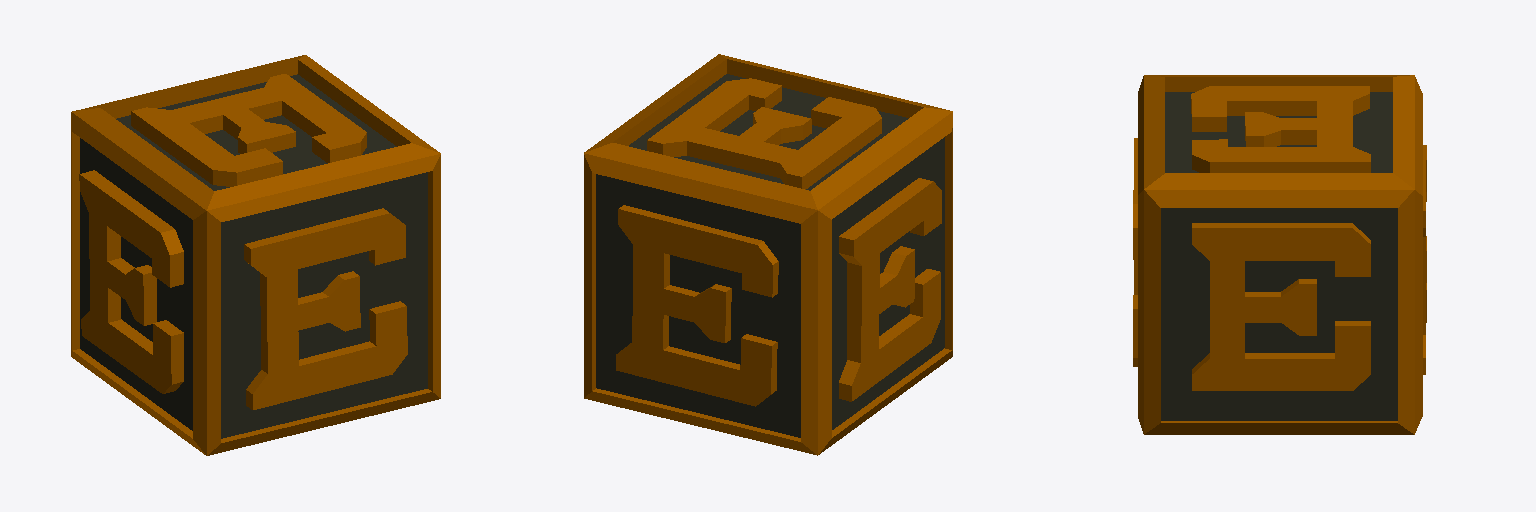
Rendered from LetterblockE.obj.
The picture shows the model from 3 angles: view 1: azimuth 30°, elevation 25°; view 2: azimuth 150°, elevation 25°; view 3: azimuth 270°, elevation 25°; orthographic projection.
Visible parts, largest first — view 1: pCube1_Untitled.007, pPlane3_Untitled.013, pPlane4_Untitled.010, pPlane5_Untitled.009; view 2: pCube1_Untitled.007, pPlane2_Untitled.011, pPlane4_Untitled.010, pPlane5_Untitled.009; view 3: pCube1_Untitled.007, pPlane1_Untitled.008, pPlane5_Untitled.009, pPlane3_Untitled.013, pPlane2_Untitled.011.
Boxes of the visible parts, <box> form: pCube1_Untitled.007: <box>71,55,440,455</box>; pPlane3_Untitled.013: <box>244,208,407,409</box>; pPlane4_Untitled.010: <box>79,170,183,393</box>; pPlane5_Untitled.009: <box>131,74,366,186</box>; pCube1_Untitled.007: <box>584,54,952,455</box>; pPlane2_Untitled.011: <box>616,205,778,406</box>; pPlane4_Untitled.010: <box>839,178,941,401</box>; pPlane5_Untitled.009: <box>647,78,881,189</box>; pCube1_Untitled.007: <box>1138,75,1422,434</box>; pPlane1_Untitled.008: <box>1192,223,1370,390</box>; pPlane5_Untitled.009: <box>1191,86,1370,172</box>; pPlane3_Untitled.013: <box>1133,138,1137,366</box>; pPlane2_Untitled.011: <box>1423,145,1426,374</box>.
Size of the model in its own units: 1.04 by 0.9981 by 1.01.